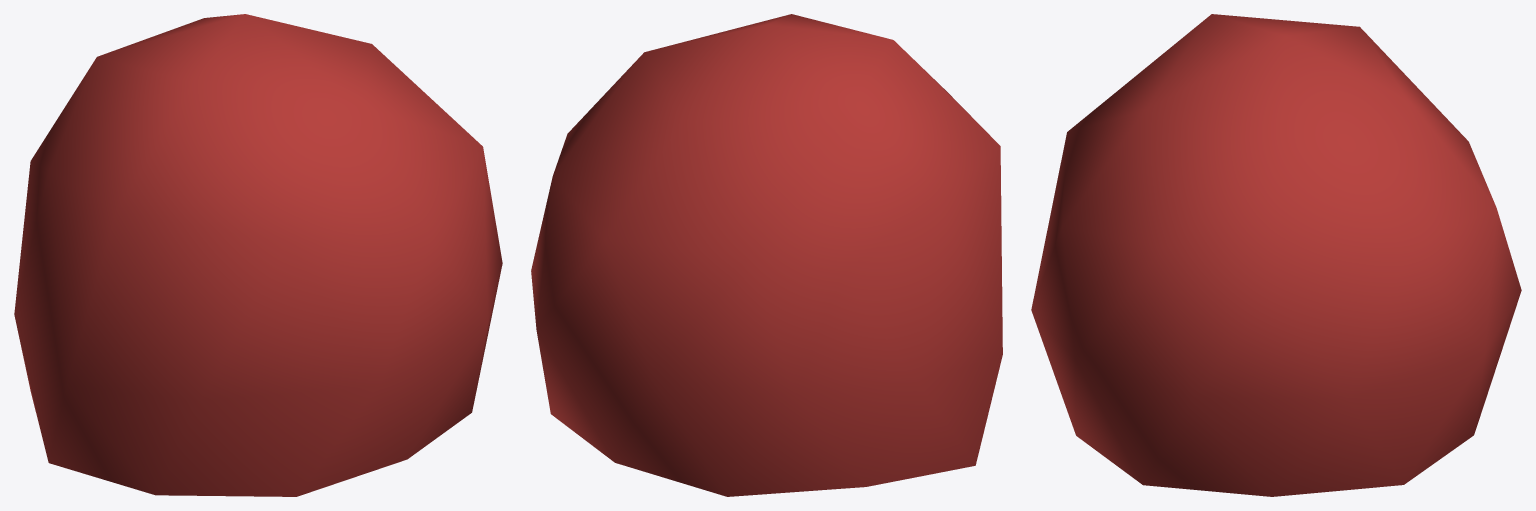
3 renders of one model, left to right at view 1: azimuth 30°, elevation 25°; view 2: azimuth 150°, elevation 25°; view 3: azimuth 270°, elevation 25°, orthographic. The views are drawn at different scales.
Visible parts, largest first — view 1: Cube; view 2: Cube; view 3: Cube.
Boxes of the visible parts, left/top/right/bottom form: Cube: left=14, top=14, right=502, bottom=496; Cube: left=531, top=14, right=1002, bottom=496; Cube: left=1031, top=14, right=1521, bottom=496.
Bounding box in the file's own units: 1.92 × 1.75 × 2.
Materials: 1 (1 with a texture image).
